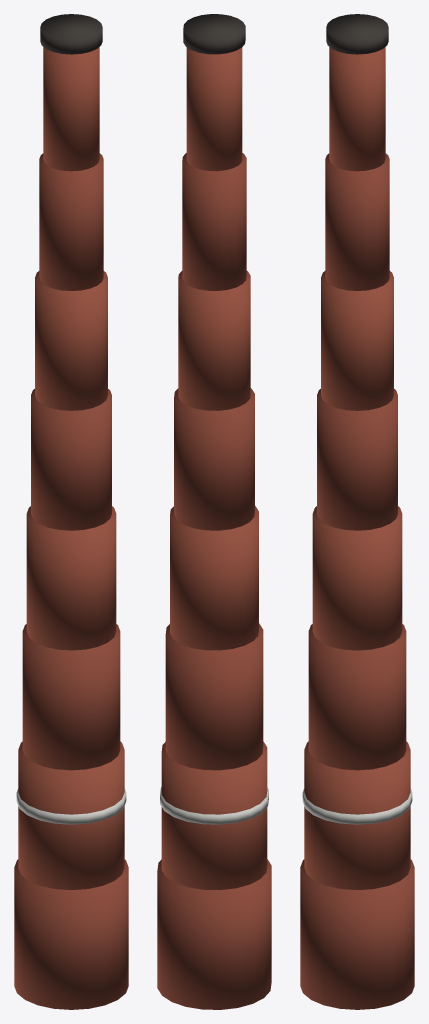
File: Chimney.fbx
3 views of the same model, side by side, from view 1: azimuth 90°, elevation 25°; view 2: azimuth 150°, elevation 25°; view 3: azimuth 270°, elevation 25° (orthographic).
Visible parts, largest first — view 1: Section0, Section2, Section1, Section3, Section4, Section5, Section6, Section7, Crown, Band0; view 2: Section0, Section2, Section1, Section3, Section4, Section5, Section6, Section7, Crown, Band0; view 3: Section0, Section2, Section1, Section3, Section4, Section5, Section6, Section7, Crown, Band0.
Boxes of the visible parts, x1,y1,x2,y2 form: Section0: [14, 859, 128, 1009]; Section2: [22, 624, 120, 770]; Section1: [18, 741, 124, 889]; Section3: [26, 506, 116, 650]; Section4: [31, 389, 111, 530]; Section5: [35, 271, 107, 410]; Section6: [39, 153, 103, 290]; Section7: [43, 47, 99, 171]; Crown: [40, 14, 102, 54]; Band0: [16, 789, 126, 824]; Section0: [157, 859, 271, 1009]; Section2: [165, 623, 263, 770]; Section1: [161, 741, 267, 889]; Section3: [170, 506, 258, 650]; Section4: [174, 388, 254, 530]; Section5: [178, 271, 250, 410]; Section6: [182, 153, 246, 290]; Section7: [186, 47, 242, 171]; Crown: [183, 14, 245, 54]; Band0: [160, 787, 268, 824]; Section0: [300, 859, 414, 1009]; Section2: [308, 624, 406, 770]; Section1: [304, 741, 410, 889]; Section3: [312, 506, 402, 650]; Section4: [317, 389, 397, 530]; Section5: [321, 271, 393, 410]; Section6: [325, 153, 389, 290]; Section7: [329, 47, 385, 171]; Crown: [326, 14, 388, 54]; Band0: [302, 789, 412, 824].
Size of the model in its own units: 440 by 440 by 4060.
